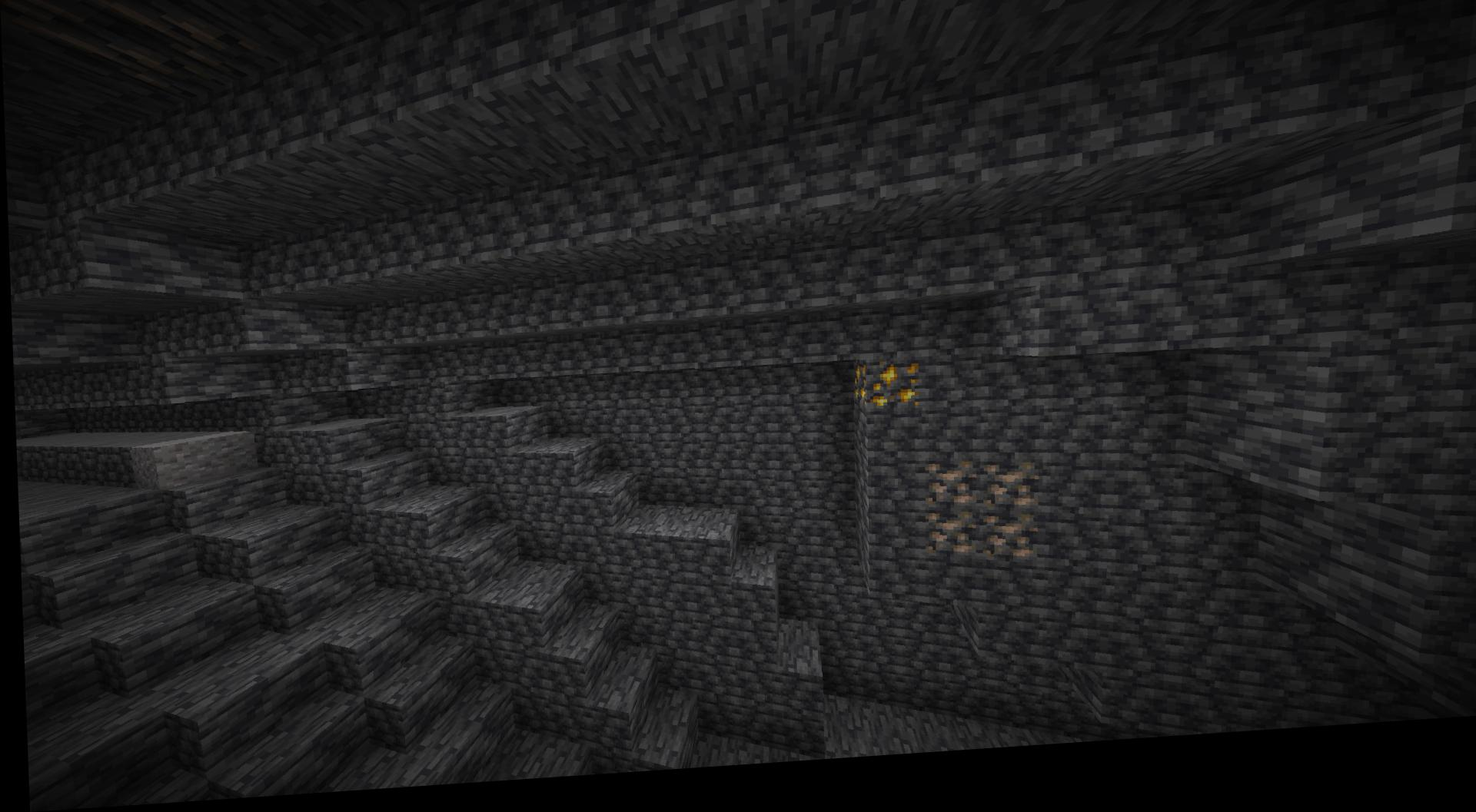gold ore: (847, 369, 914, 415)
iron ore: (920, 465, 974, 523), (976, 472, 1035, 524), (979, 523, 1033, 572), (922, 522, 973, 572)
